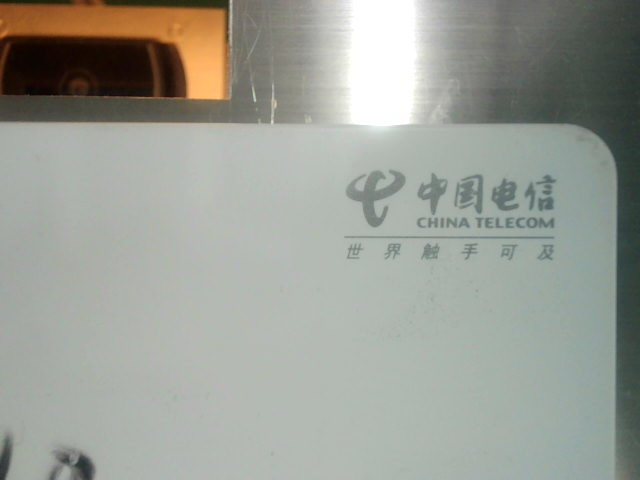AB_ChinaTelecom: (328, 159, 569, 270)
